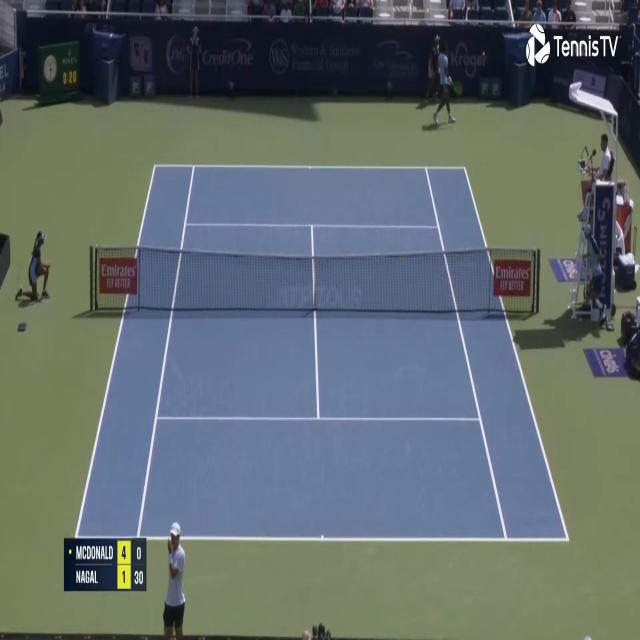tennis-player: (413, 35, 460, 129), (161, 518, 188, 639)
